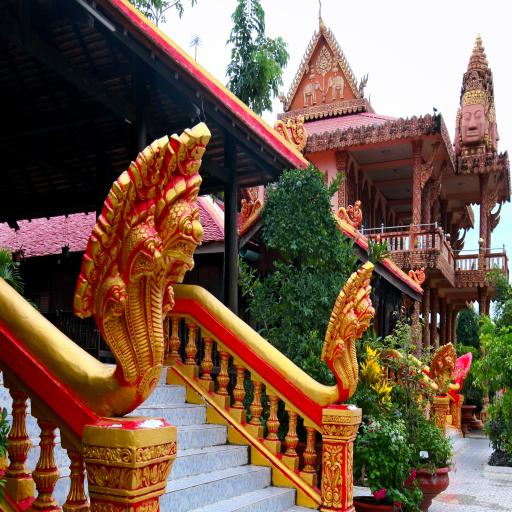la: (408, 115, 418, 136), (320, 132, 330, 150), (370, 122, 378, 144), (383, 120, 391, 142), (309, 134, 318, 152), (397, 116, 404, 139), (346, 126, 354, 146), (334, 127, 341, 149), (423, 113, 430, 135), (408, 252, 416, 270), (396, 252, 404, 269), (359, 125, 366, 144), (422, 252, 430, 268), (456, 272, 463, 289), (416, 252, 422, 270), (404, 251, 410, 269), (479, 272, 485, 288), (468, 272, 474, 288), (462, 272, 468, 288), (435, 252, 440, 269), (474, 271, 479, 287), (429, 253, 434, 269), (338, 178, 344, 190), (338, 196, 344, 208), (491, 272, 495, 287), (486, 272, 490, 286)
ran: (94, 126, 215, 410), (322, 258, 386, 399), (433, 342, 459, 391), (358, 76, 369, 98), (280, 93, 286, 112)
than: (456, 39, 500, 152)
